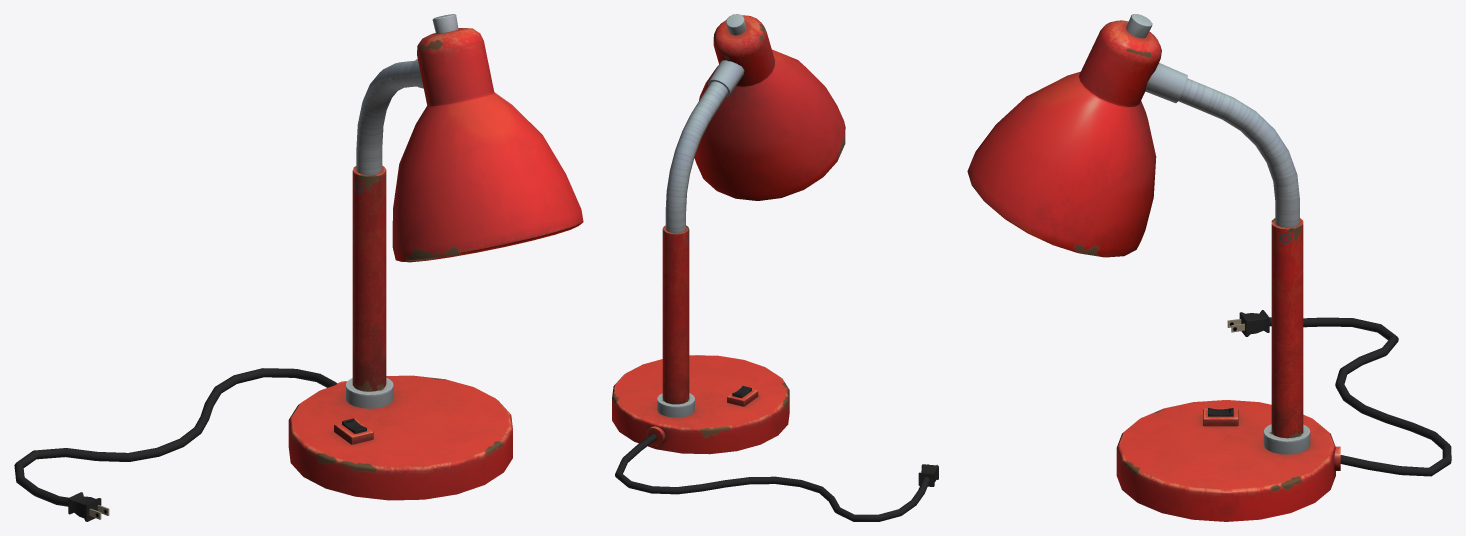
File: lampara.fbx
The picture shows the model from 3 angles, left to right: view 1: azimuth 30°, elevation 25°; view 2: azimuth 150°, elevation 25°; view 3: azimuth 270°, elevation 25°; orthographic projection. The views are drawn at different scales.
Visible parts, largest first — view 1: DeskLamp_LP; view 2: DeskLamp_LP; view 3: DeskLamp_LP.
Boxes of the visible parts, x1,y1,x2,y2 form: DeskLamp_LP: [14, 14, 583, 521]; DeskLamp_LP: [612, 14, 938, 521]; DeskLamp_LP: [967, 14, 1451, 521].
Size of the model in its own units: 7.99 by 8.63 by 8.23.
Materials: 1 (1 with a texture image).
